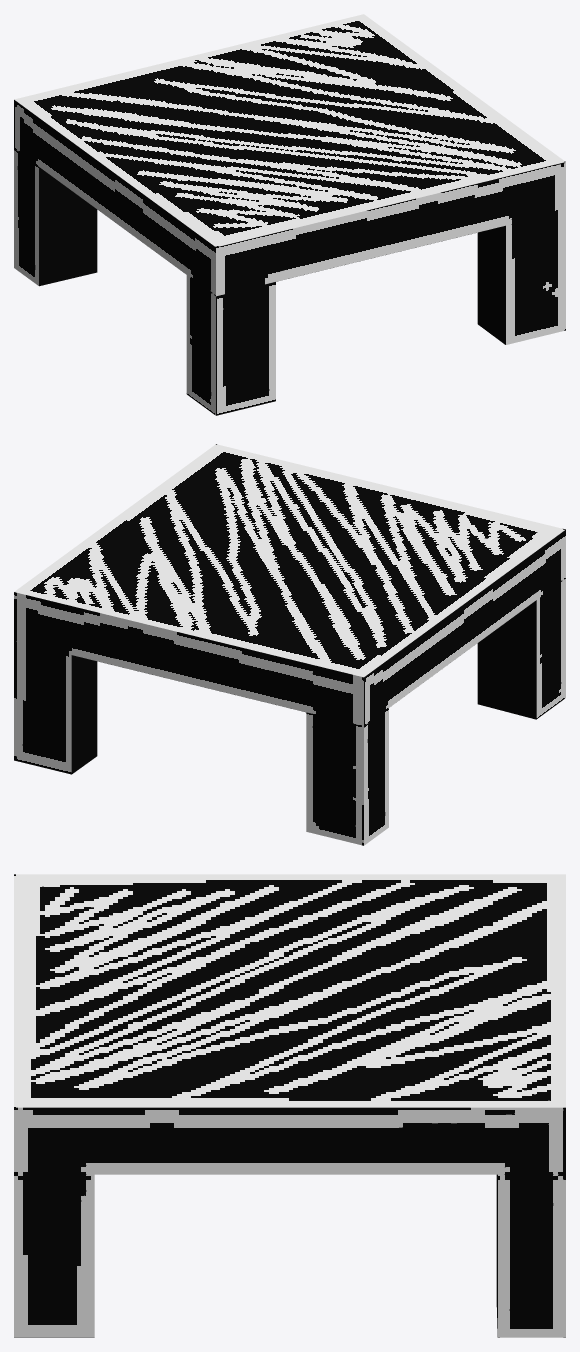
File: end_table.gltf
The picture shows the model from 3 angles, top to bottom: view 1: azimuth 30°, elevation 25°; view 2: azimuth 150°, elevation 25°; view 3: azimuth 270°, elevation 25°; orthographic projection. The views are drawn at different scales.
Visible parts, largest first — view 1: table, table_bkg; view 2: table, table_bkg; view 3: table.
Part boxes in pixels (box(x1,y1,x2,y2)): table: box(14, 14, 565, 415); table_bkg: box(39, 167, 505, 344); table: box(14, 444, 565, 845); table_bkg: box(71, 600, 536, 774); table: box(14, 874, 565, 1337).
Size of the model in its own units: 1 by 0.4602 by 1.
2 materials, 1 textured.
